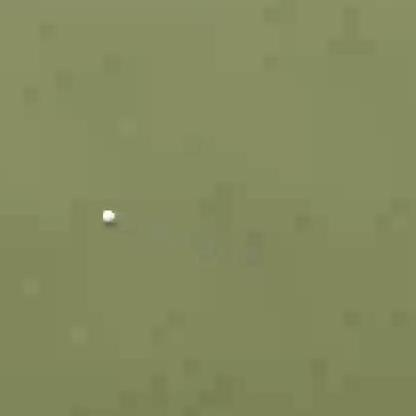golfball: (101, 208, 115, 223)
